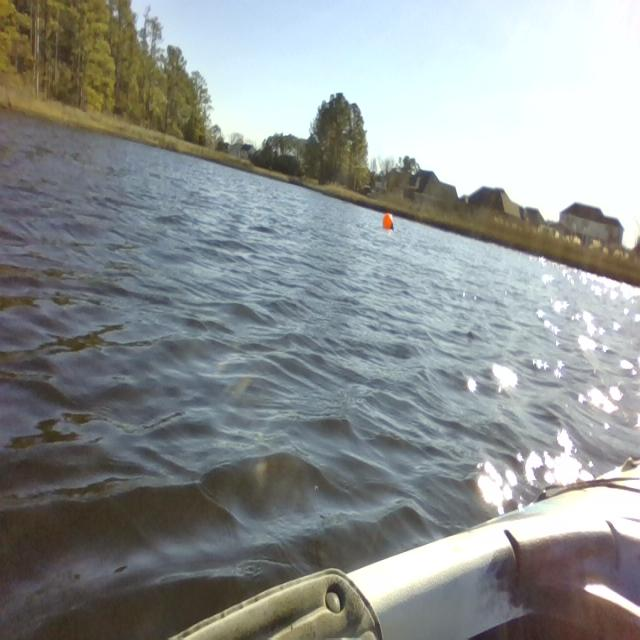Buoy: (376, 209, 398, 235)
